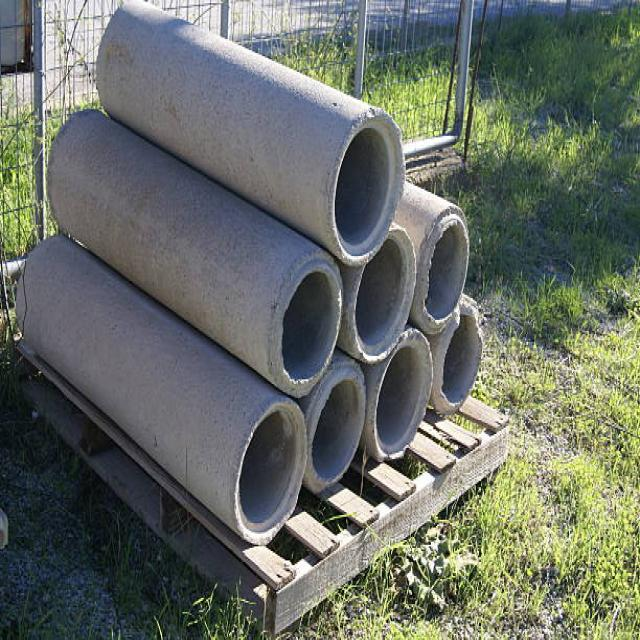Wooden-Pallets: (263, 410, 509, 637)
